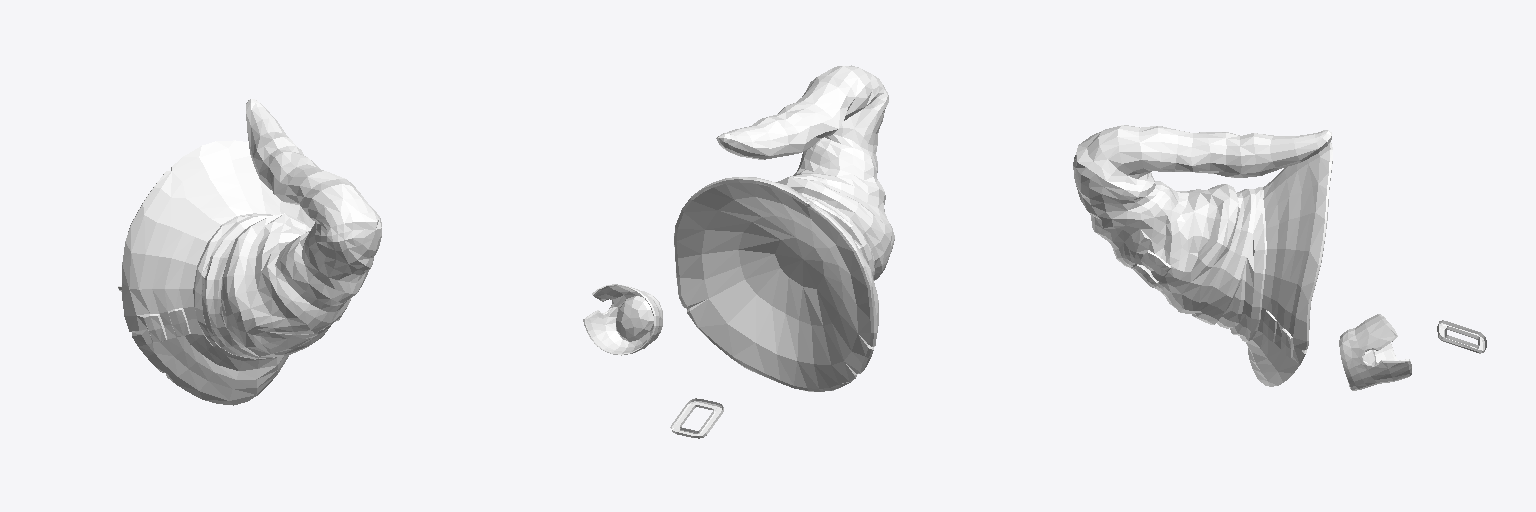
The model's file is vivi0.obj.
The picture shows the model from 3 angles: view 1: azimuth 30°, elevation 25°; view 2: azimuth 150°, elevation 25°; view 3: azimuth 270°, elevation 25°; orthographic projection.
Bounding box in the file's own units: 1.35 × 1.44 × 2.